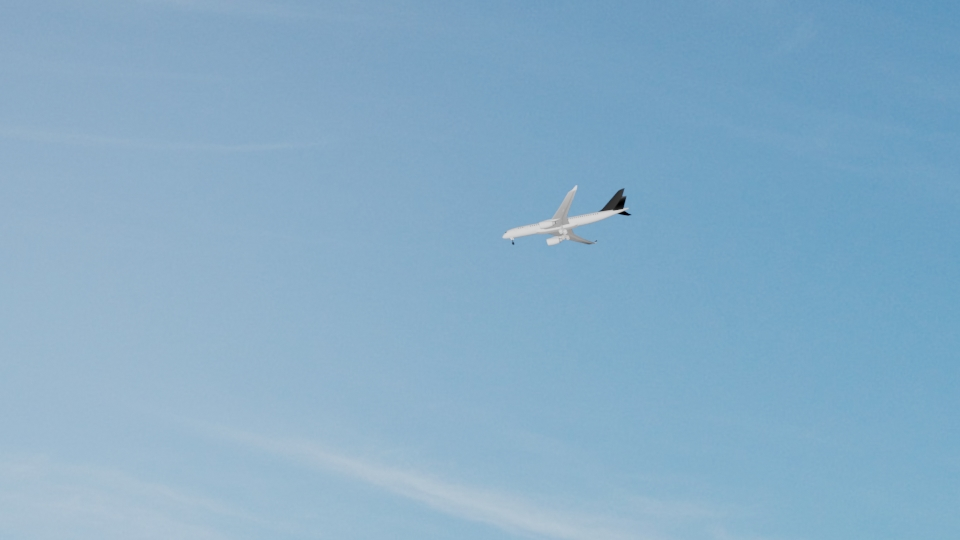plane: (499, 185, 631, 250)
